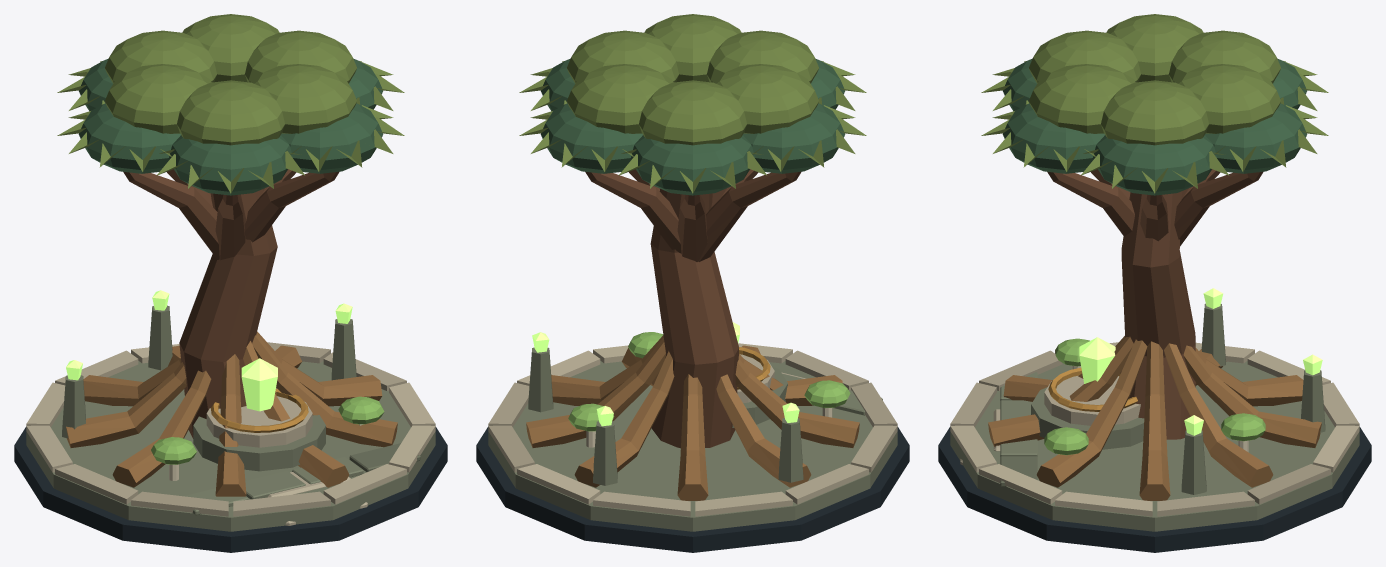
File: nature__base__L01.glb
3 views of the same model, side by side, from view 1: azimuth 30°, elevation 25°; view 2: azimuth 150°, elevation 25°; view 3: azimuth 270°, elevation 25° (orthographic).
Visible parts, largest first — view 1: structure, weapon; view 2: structure; view 3: structure, weapon.
Part boxes in pixels (left/top/right/bottom): structure: left=14, top=14, right=447, bottom=552; weapon: left=241, top=358, right=277, bottom=411; structure: left=476, top=14, right=909, bottom=552; structure: left=938, top=14, right=1371, bottom=552; weapon: left=1079, top=337, right=1115, bottom=383.
Bounding box in the file's own units: 0.8624 × 0.8892 × 0.8624.
